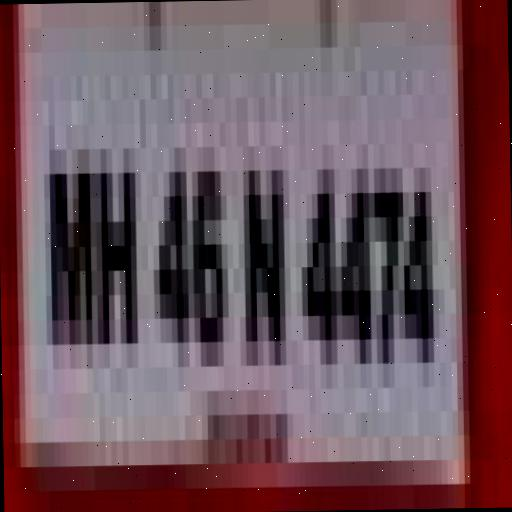number plate: (7, 0, 476, 492)
